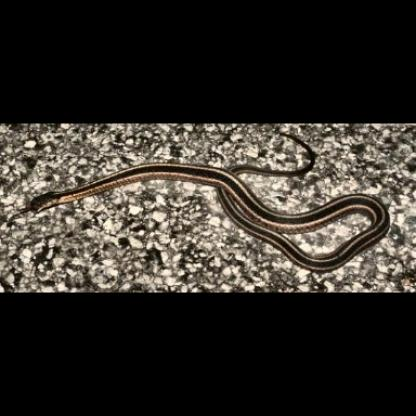Snake: (32, 155, 390, 276)
